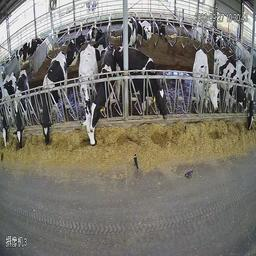cow: (116, 46, 169, 119), (40, 55, 68, 143), (90, 49, 116, 135), (191, 46, 219, 113), (80, 44, 98, 145), (219, 50, 247, 114), (15, 68, 30, 149), (0, 72, 15, 147), (15, 33, 42, 71), (65, 28, 85, 69), (127, 14, 148, 47), (247, 65, 255, 132), (232, 36, 250, 63), (193, 21, 210, 46), (94, 27, 107, 55), (212, 26, 225, 50), (152, 17, 167, 37), (144, 17, 152, 39), (87, 23, 95, 42)
